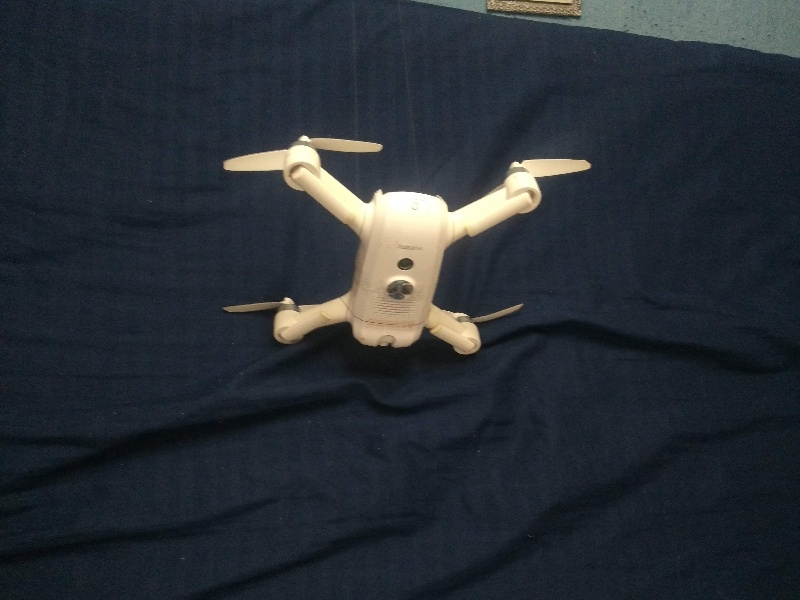drone: (215, 116, 589, 361)
